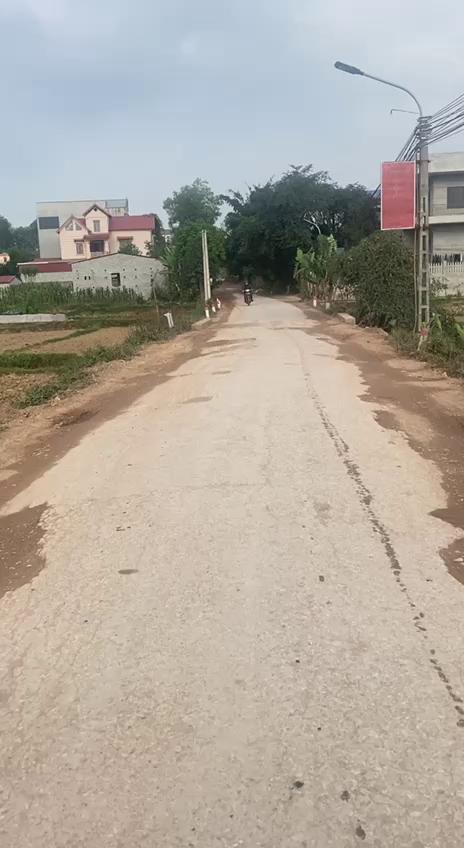pothole: (0, 494, 67, 587)
